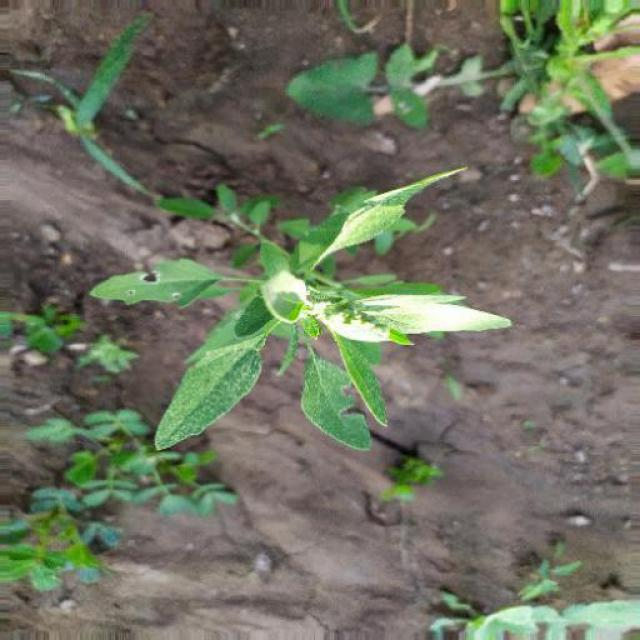weed: (102, 165, 516, 453)
